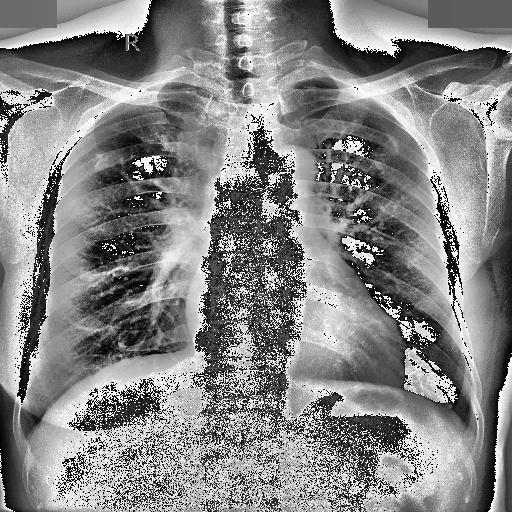0- Aortic enlargement: (248, 142, 318, 186)
10- Pleural effusion: (16, 425, 36, 443), (457, 417, 474, 435)
11- Pleural thickening: (16, 425, 36, 443), (457, 417, 474, 435)
13- Pulmonary fibrosis: (365, 131, 410, 242), (71, 152, 119, 231), (370, 130, 404, 240), (94, 150, 110, 169)
7- Lung Opacity: (186, 85, 224, 173), (90, 150, 110, 172)
8- Nodule-Mass: (386, 130, 398, 152), (374, 160, 386, 174)
9- Other lesion: (186, 85, 224, 173)
